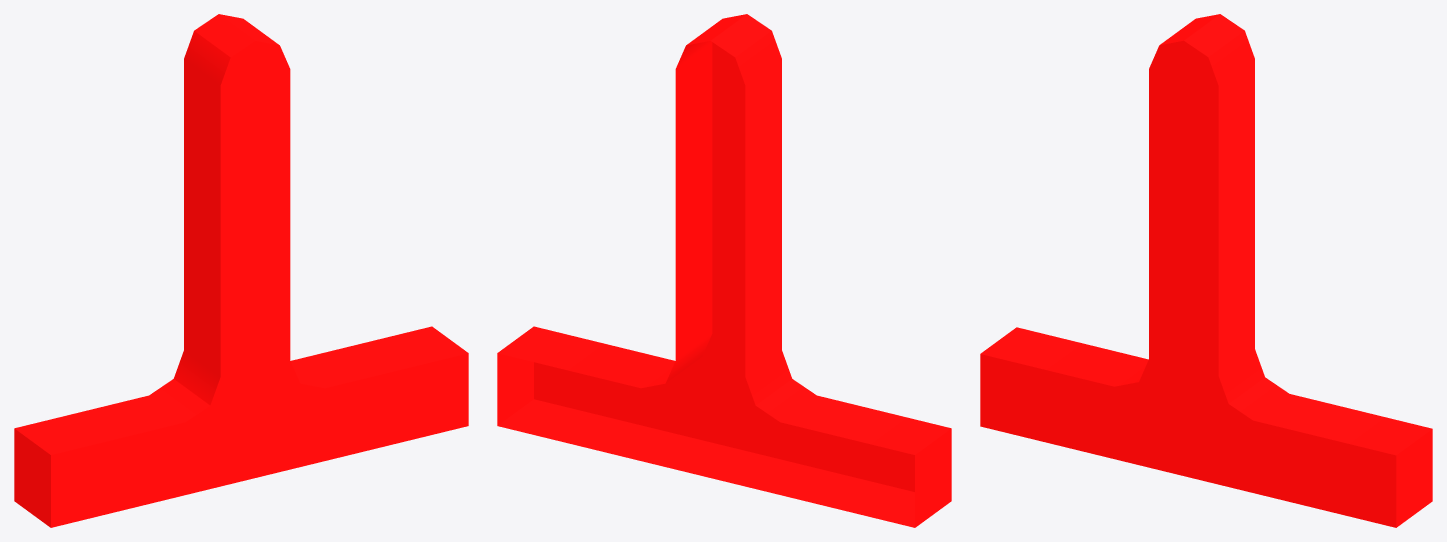
Rendered from I_Red.glb.
3 views of the same model, side by side, from view 1: azimuth 30°, elevation 25°; view 2: azimuth 150°, elevation 25°; view 3: azimuth 330°, elevation 25° (orthographic).
Parts seen in each view (by area): view 1: I_R; view 2: I_R; view 3: I_R.
Boxes of the visible parts, x1=… form: I_R: x1=14, y1=14, x2=468, y2=527; I_R: x1=497, y1=14, x2=951, y2=527; I_R: x1=980, y1=14, x2=1432, y2=527.
Bounding box in the file's own units: 0.4999 × 0.4999 × 0.0759.
1 material, 1 textured.
